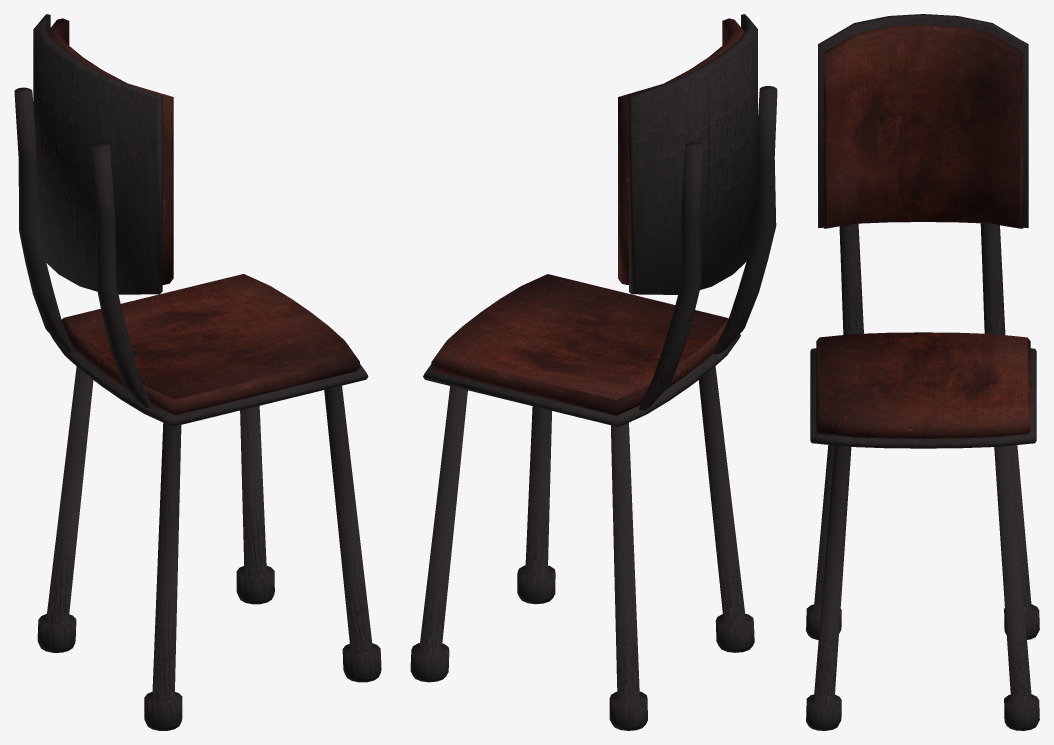
The model's file is FPH_ChairTwo.fbx.
3 renders of one model, left to right at view 1: azimuth 30°, elevation 25°; view 2: azimuth 150°, elevation 25°; view 3: azimuth 270°, elevation 25°, orthographic. The views are drawn at different scales.
Visible parts, largest first — view 1: FPH_ChairTwo; view 2: FPH_ChairTwo; view 3: FPH_ChairTwo.
Part boxes in pixels (left/top/right/bottom): FPH_ChairTwo: left=14, top=14, right=381, bottom=730; FPH_ChairTwo: left=410, top=14, right=777, bottom=730; FPH_ChairTwo: left=806, top=14, right=1039, bottom=730.
Bounding box in the file's own units: 2.82 × 6.34 × 2.25.
